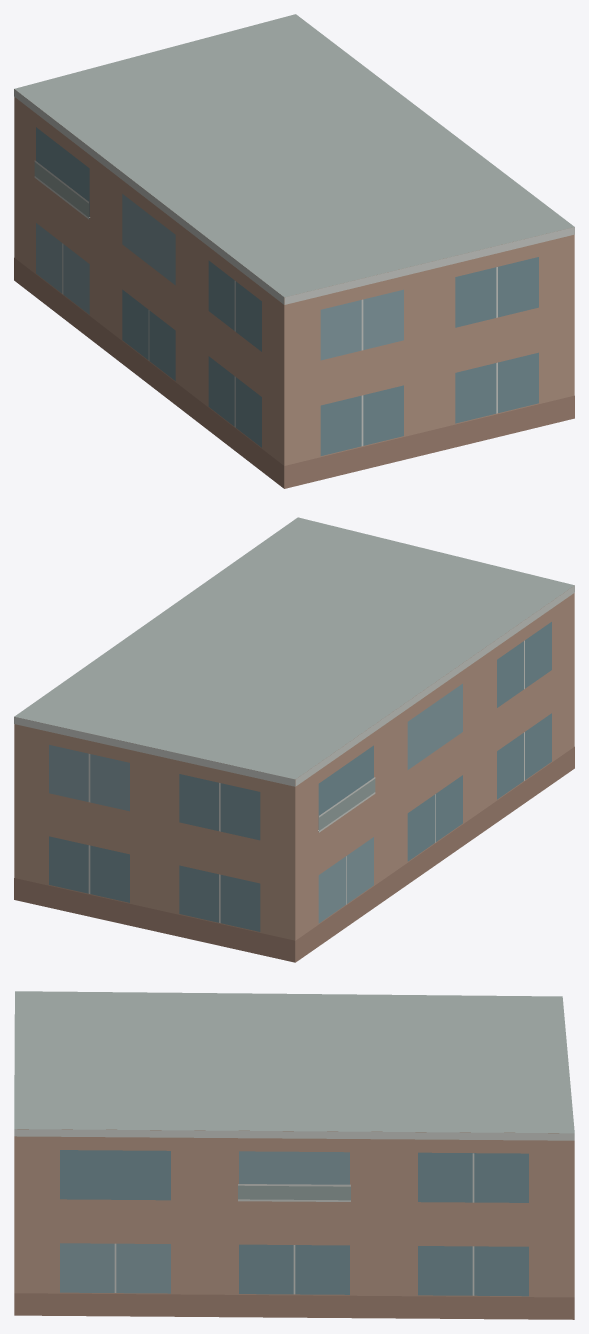
File: survey-upis-32660209.glb
3 renders of one model, top to bottom at view 1: azimuth 30°, elevation 25°; view 2: azimuth 150°, elevation 25°; view 3: azimuth 270°, elevation 25°, orthographic. The views are drawn at different scales.
Visible parts, largest first — view 1: survey-upis-32660209.tmp; view 2: survey-upis-32660209.tmp; view 3: survey-upis-32660209.tmp.
Boxes of the visible parts, <box> form: survey-upis-32660209.tmp: <box>14,14,574,488</box>; survey-upis-32660209.tmp: <box>14,517,574,962</box>; survey-upis-32660209.tmp: <box>14,991,574,1319</box>.
Bounding box in the file's own units: 9.98 × 6.1 × 16.63.
